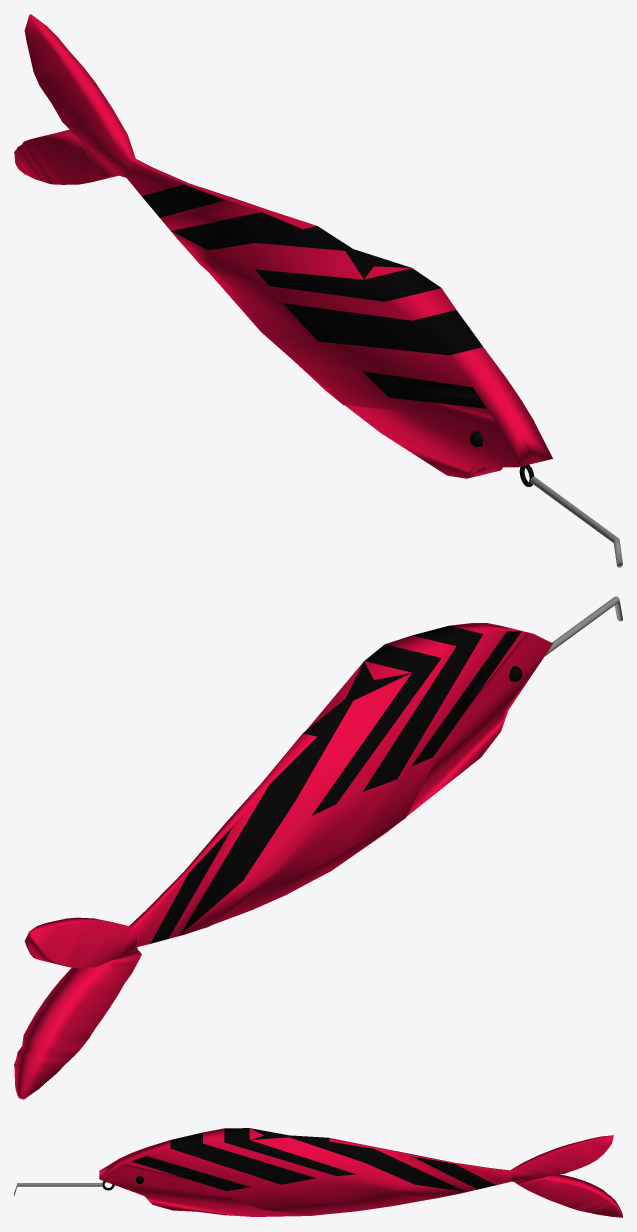
Rendered from fishbait.fbx.
3 views of the same model, one above another, from view 1: azimuth 30°, elevation 25°; view 2: azimuth 150°, elevation 25°; view 3: azimuth 270°, elevation 25° (orthographic). The views are drawn at different scales.
Visible parts, largest first — view 1: Cylinder; view 2: Cylinder; view 3: Cylinder.
Boxes of the visible parts, x1,y1,x2,y2 form: Cylinder: [14, 14, 622, 567]; Cylinder: [14, 596, 622, 1099]; Cylinder: [14, 1128, 622, 1217].
Size of the model in its own units: 34.9 by 65.17 by 432.
